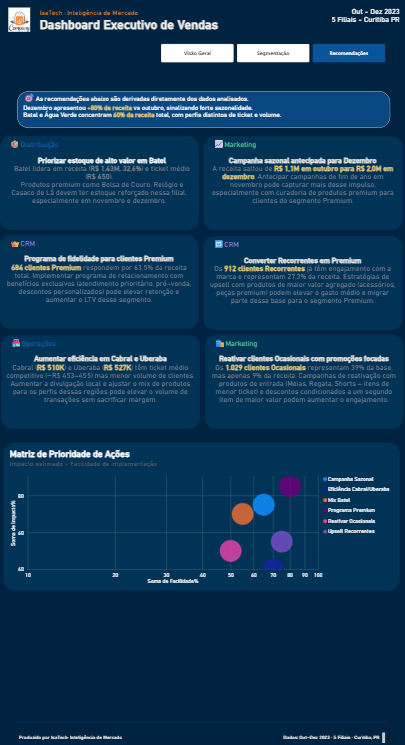

The page's visual inventory and layout, read from the dashboard file:
{"tool":"powerbi","page":{"name":"Recomendações","canvas":[1100,2000],"ordinal":2},"visuals":[{"type":"textbox","title":"IsaTech · Inteligência de Mercado","box":[117.1,22.9,680,92.9],"z":0},{"type":"textbox","box":[875.6,21.1,200,50],"z":1000},{"type":"shape","box":[50.7,1896,994.7,56],"z":6000},{"type":"scatterChart","title":"Matriz de Prioridade de Ações","fields":{"Series":["Matriz_Prioridade.Nome ação"],"Size":["CountNonNull(Matriz_Prioridade.Nome ação)"],"X":["Sum(Matriz_Prioridade.Facilidade%)"],"Y":["Sum(Matriz_Prioridade.Impacto%)"]},"box":[21.3,1180,1056,394.7],"z":7000},{"type":"textbox","box":[57.3,244,994.7,97.3],"z":8000},{"type":"textbox","box":[10.7,363,530,250],"z":9000},{"type":"textbox","box":[10.7,628,529.3,250.7],"z":10000},{"type":"textbox","box":[554.7,629.3,529.3,250.7],"z":11000},{"type":"textbox","box":[551.7,363,530,250],"z":12000},{"type":"textbox","box":[13.3,893.3,530.7,249.3],"z":13000},{"type":"textbox","box":[557.3,894.7,529.3,249.3],"z":14000},{"type":"textbox","box":[58.7,1952,977.3,32],"z":15000},{"type":"pageNavigator","box":[440,116,600,50.7],"z":15001},{"type":"image","box":[0,20.8,124.2,65],"z":15002}]}

Visuals, with their boxes in screenshot pixels (x1, y1, x2, y2), scaled from the page's 1100x2000 canvas onto the 405x745 screenshot:
"IsaTech · Inteligência de Mercado" textbox: 43 9 293 43
textbox: 322 8 396 26
shape: 19 706 385 727
"Matriz de Prioridade de Ações" scatterChart: 8 440 397 587
textbox: 21 91 387 127
textbox: 4 135 199 228
textbox: 4 234 199 327
textbox: 204 234 399 328
textbox: 203 135 398 228
textbox: 5 333 200 426
textbox: 205 333 400 426
textbox: 22 727 381 739
pageNavigator: 162 43 383 62
image: 0 8 46 32
